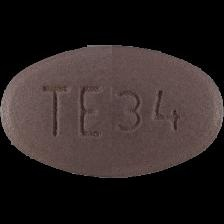54868-6453: (0, 0, 224, 224)
